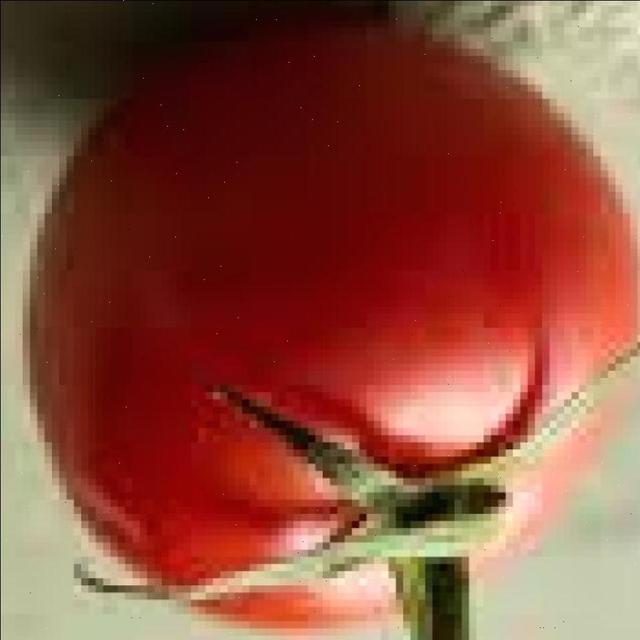Healthy Fruit: (18, 7, 426, 422)
